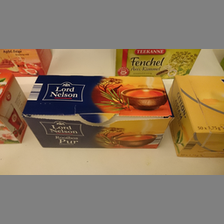tea: (23, 75, 174, 149), (168, 75, 224, 158)
